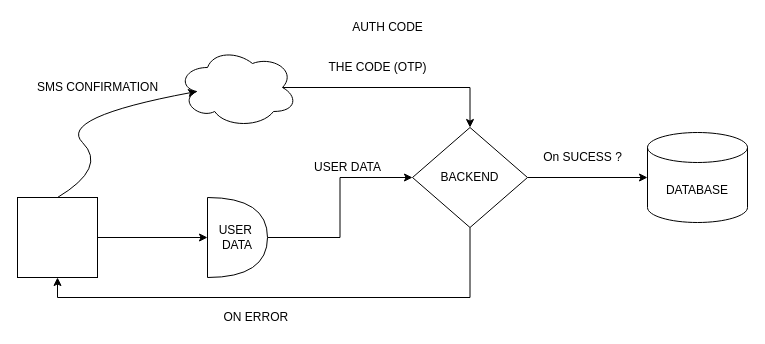
Image size: 765x344. Some labels were removed from this diagram. Each missing label, with the box of its shape:
AWS SMS SERVICE: (176, 46, 298, 128)
USER: (16, 196, 98, 278)
